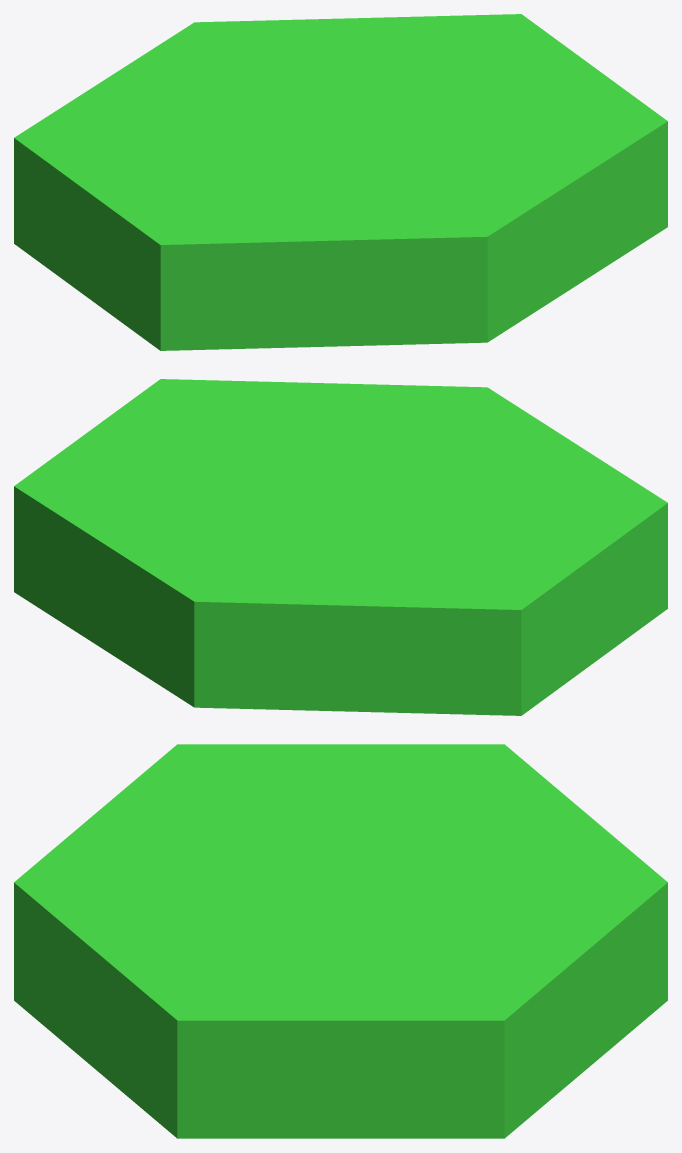
The model's file is hexGreen.glb.
The picture shows the model from 3 angles, top to bottom: view 1: azimuth 30°, elevation 25°; view 2: azimuth 150°, elevation 25°; view 3: azimuth 270°, elevation 25°; orthographic projection. The views are drawn at different scales.
Visible parts, largest first — view 1: hexGreen; view 2: hexGreen; view 3: hexGreen.
Boxes of the visible parts, x1,y1,x2,y2 form: hexGreen: (14, 14, 667, 350); hexGreen: (14, 379, 667, 715); hexGreen: (14, 744, 667, 1138).
Size of what is drawn, in the model's own units: 1 by 0.1994 by 1.
